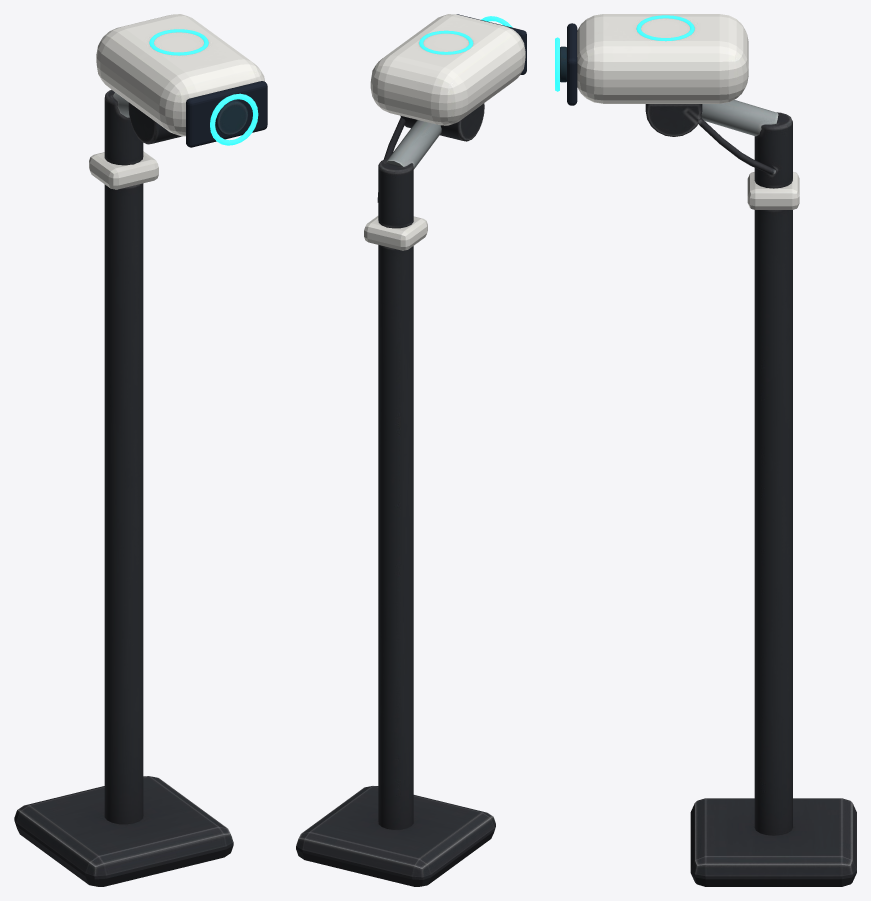
File: net_camera.glb
The picture shows the model from 3 angles, left to right: view 1: azimuth 30°, elevation 25°; view 2: azimuth 150°, elevation 25°; view 3: azimuth 270°, elevation 25°; orthographic projection. The views are drawn at different scales.
Parts seen in each view (by area): view 1: net_camera_mesh; view 2: net_camera_mesh; view 3: net_camera_mesh.
Part boxes in pixels (left/top/right/bottom): net_camera_mesh: left=14, top=14, right=267, bottom=886; net_camera_mesh: left=296, top=14, right=526, bottom=886; net_camera_mesh: left=555, top=14, right=856, bottom=886.
Size of the model in its own units: 0.4 by 2.2 by 0.7261.
Materials: 3 (1 with a texture image).
